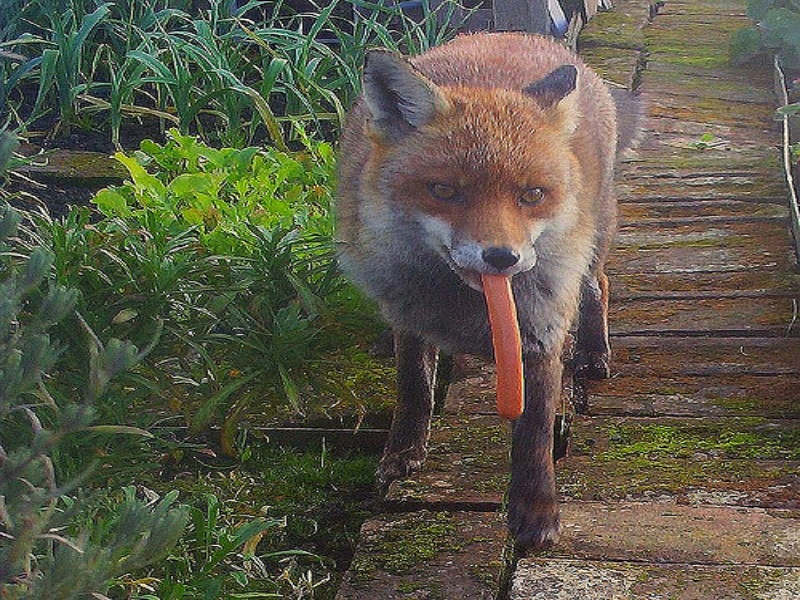fox: (329, 29, 631, 562)
